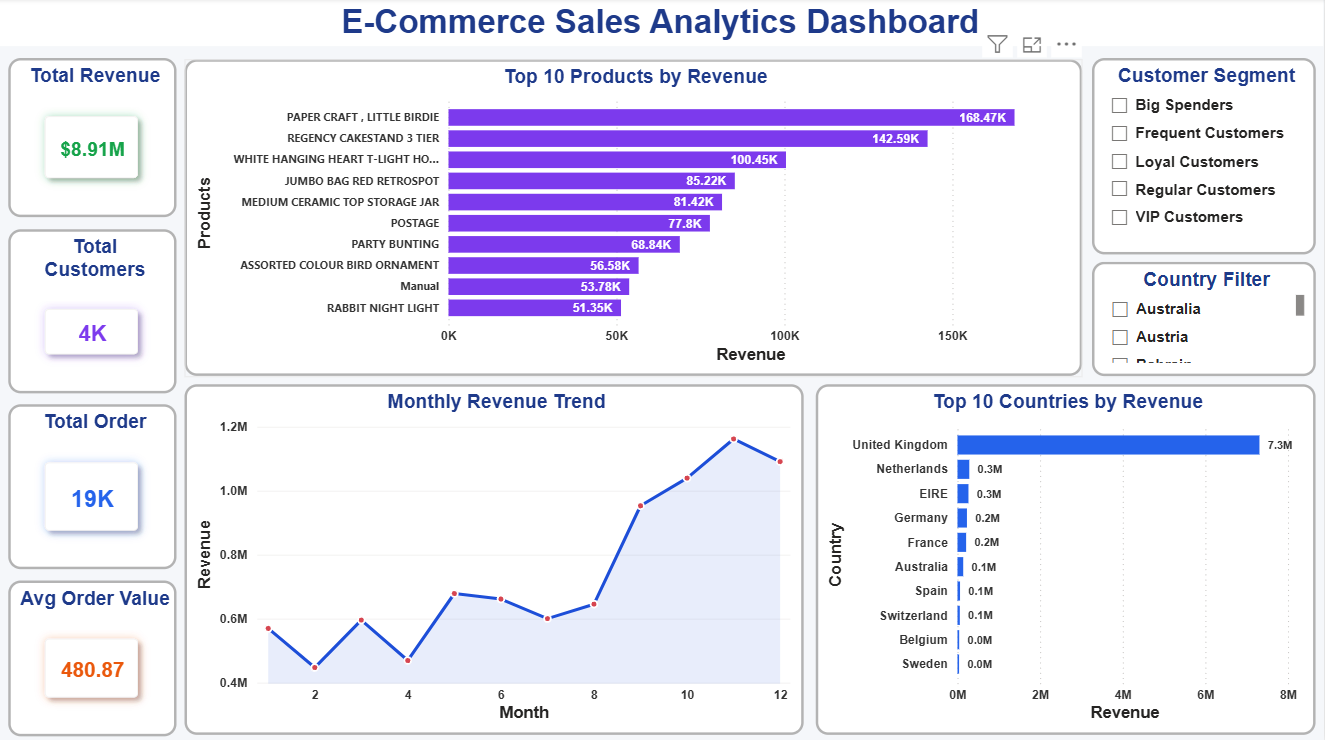

This screenshot's page, from the dashboard's own definition file:
{"tool":"powerbi","page":{"name":"Executive Overview","canvas":[1280,720],"ordinal":0},"visuals":[{"type":"textbox","box":[0,0,1280.2,46.5],"z":0},{"type":"cardVisual","title":"Total Revenue","fields":{"Data":["cleaned ecommerce data.Total Revenue"]},"box":[10.5,58.1,162.8,153.5],"z":1000},{"type":"cardVisual","title":"Total Customers","fields":{"Data":["cleaned ecommerce data.Total Customers"]},"box":[10.5,223.3,162.8,158.1],"z":2000},{"type":"cardVisual","title":"Avg Order Value","fields":{"Data":["cleaned ecommerce data.Avg Order Value"]},"box":[10.5,561.6,162.8,150],"z":3000},{"type":"cardVisual","title":"Total Order","fields":{"Data":["cleaned ecommerce data.Total Orders"]},"box":[10.5,391.9,162.8,159.3],"z":4000},{"type":"lineChart","title":"Monthly Revenue Trend","fields":{"Category":["cleaned ecommerce data.InvoiceMonth"],"Y":["cleaned ecommerce data.Total Revenue"]},"box":[181.4,373.3,597.7,338.4],"z":5000},{"type":"clusteredBarChart","title":"Top 10 Countries by Revenue","fields":{"Category":["cleaned ecommerce data.Country"],"Y":["cleaned ecommerce data.Total Revenue"]},"box":[790.4,372.9,482,338.4],"z":6000},{"type":"clusteredBarChart","title":"Top 10 Products by Revenue","fields":{"Category":["cleaned ecommerce data.Description"],"Y":["cleaned ecommerce data.Total Revenue"]},"box":[181.4,59.3,866.3,305.8],"z":7000},{"type":"slicer","title":"Country Filter","fields":{"Values":["cleaned ecommerce data.Country"]},"box":[1057,254.7,216.3,110.5],"z":8000},{"type":"slicer","title":"Customer Segment","fields":{"Values":["rfm customer segments.Segment"]},"box":[1057,58.1,216.3,189.5],"z":9000}]}

Visuals, with their boxes in screenshot pixels (x1, y1, x2, y2), scaled from the page's 1280x720 canvas onto the 1325x740 screenshot:
textbox: select_region(0, 0, 1324, 48)
"Total Revenue" cardVisual: select_region(11, 60, 179, 217)
"Total Customers" cardVisual: select_region(11, 230, 179, 392)
"Avg Order Value" cardVisual: select_region(11, 577, 179, 731)
"Total Order" cardVisual: select_region(11, 403, 179, 567)
"Monthly Revenue Trend" lineChart: select_region(188, 384, 806, 731)
"Top 10 Countries by Revenue" clusteredBarChart: select_region(818, 383, 1317, 731)
"Top 10 Products by Revenue" clusteredBarChart: select_region(188, 61, 1085, 375)
"Country Filter" slicer: select_region(1094, 262, 1318, 375)
"Customer Segment" slicer: select_region(1094, 60, 1318, 254)
